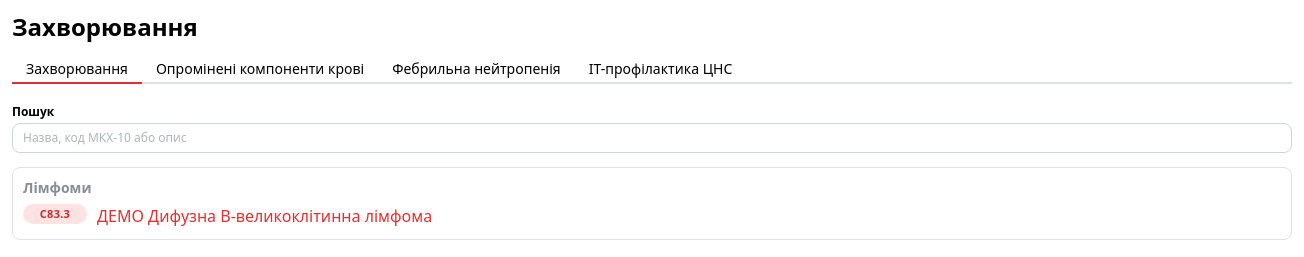
Test: DiseasesPage search › filters by name and by ICD-10 code
Type "c83" into the field labelled "Пошук" at (652, 138), box [12,123,1292,153]
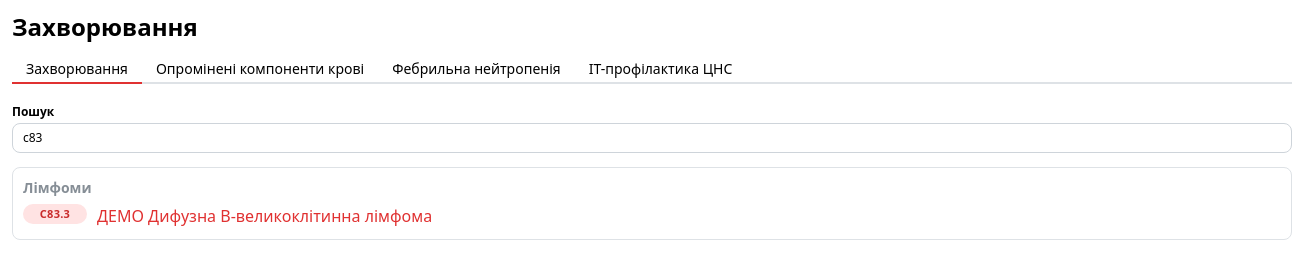
Expected: the text "C83.3" is shown, [40,205,70,223]
Replace the text in the field labelled "Пошук" with "лейкоз" at (652, 138), box [12,123,1292,153]
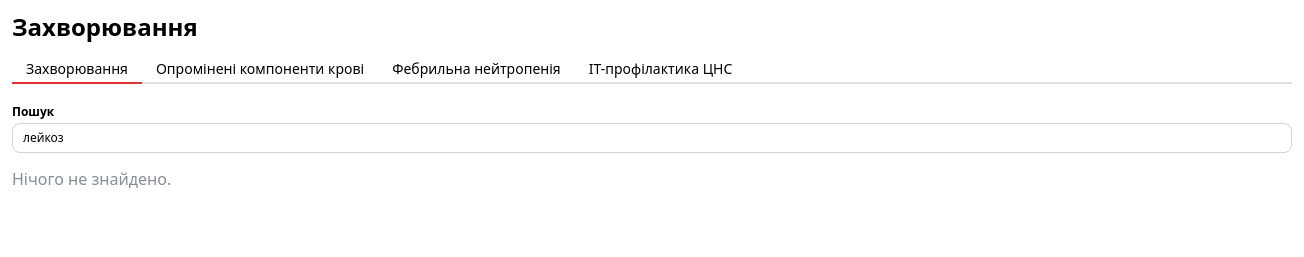
Expected: the text "Нічого не знайдено." is shown, [12,168,171,190]
